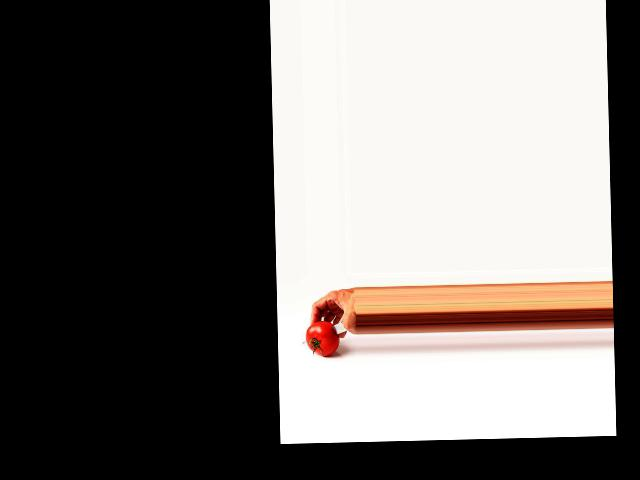tomato: (305, 320, 339, 356)
